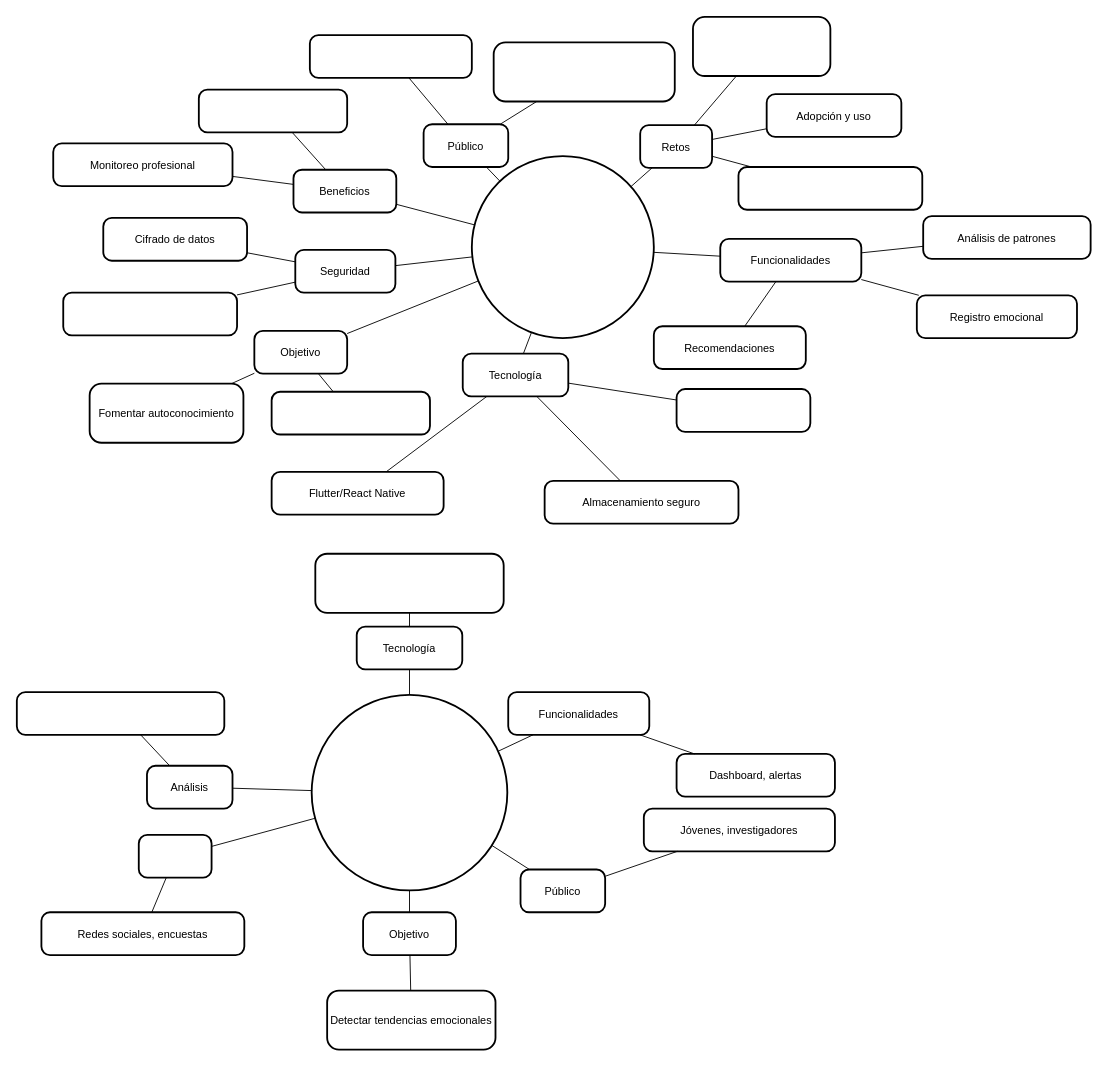
Image size: 1107x1066. Some labels were removed from this diagram. The centre of each missing label's shape, as x and y in pixels:
"Análisis de sentimientos en redes - Jóvenes 14-18" goes at point (409, 792).
"Apoyo emocional" goes at point (272, 110).
"App móvil - Diario de emociones jóvenes 14-18 años" goes at point (562, 247).
"Autenticación segura" goes at point (150, 313).
"Datos" goes at point (174, 856).
"IA para análisis" goes at point (743, 410).
"IA y visualización de datos" goes at point (120, 713).
"Jóvenes 14-18 años" goes at point (390, 56).
"Plataforma web/móvil, nube" goes at point (409, 582).
"Precisión en detección" goes at point (830, 188).
"Privacidad vs personalización" goes at point (761, 45).
"Profesionales en salud mental" goes at point (583, 71).
"Proveer autoayuda" goes at point (350, 412).
